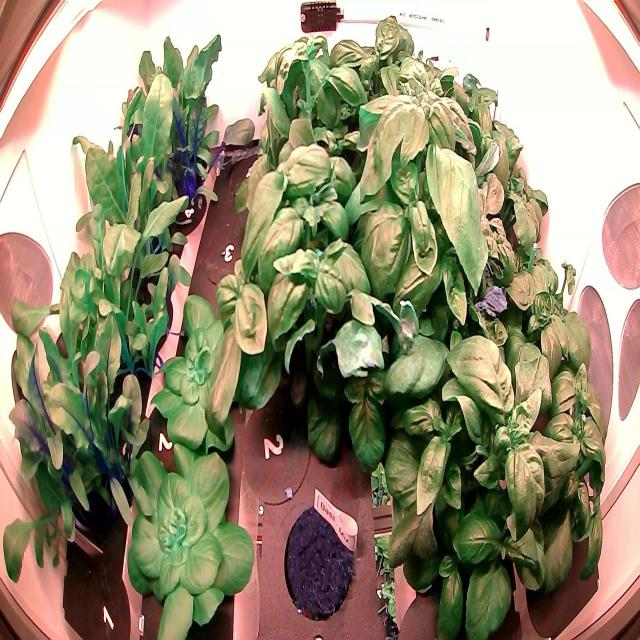empty_pod: (195, 205, 261, 300), (219, 133, 283, 229)
pod: (281, 500, 357, 626)
young: (118, 440, 256, 640), (144, 284, 254, 484)
